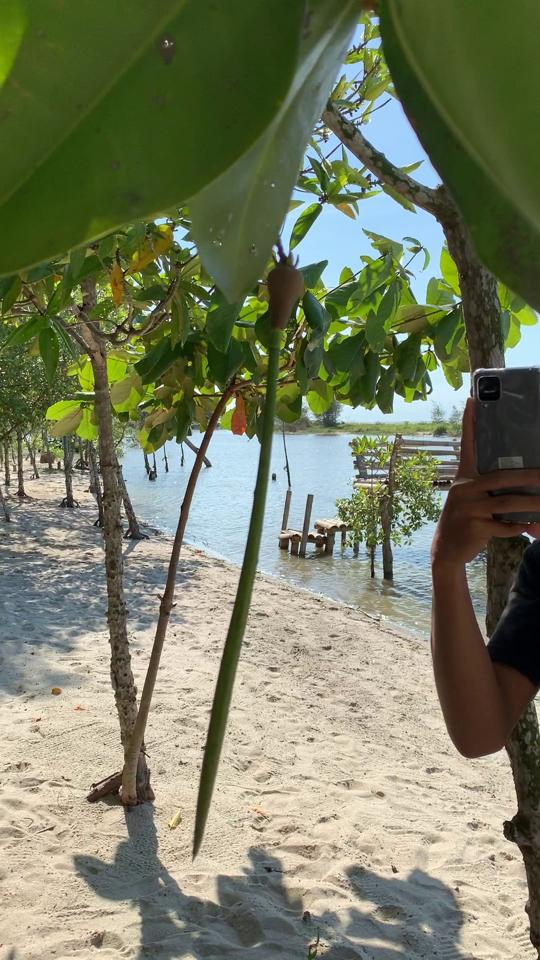setengah matang: (182, 244, 317, 867)
